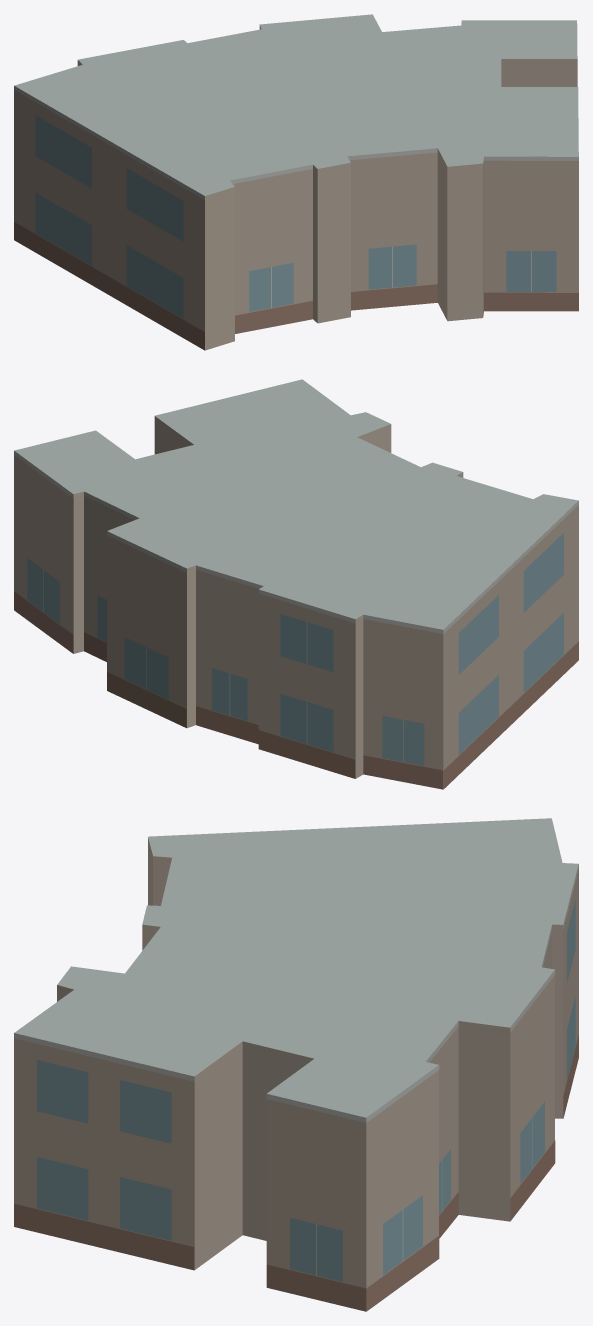
Rendered from survey-upis-32506129.glb.
3 views of the same model, one above another, from view 1: azimuth 30°, elevation 25°; view 2: azimuth 150°, elevation 25°; view 3: azimuth 270°, elevation 25° (orthographic). The views are drawn at different scales.
Parts seen in each view (by area): view 1: survey-upis-32506129.tmp; view 2: survey-upis-32506129.tmp; view 3: survey-upis-32506129.tmp.
Boxes of the visible parts, x1,y1,x2,y2 form: survey-upis-32506129.tmp: (14, 14, 578, 350); survey-upis-32506129.tmp: (14, 379, 578, 789); survey-upis-32506129.tmp: (14, 818, 578, 1311).
Size of the model in its own units: 30.2 by 9.11 by 24.06.
